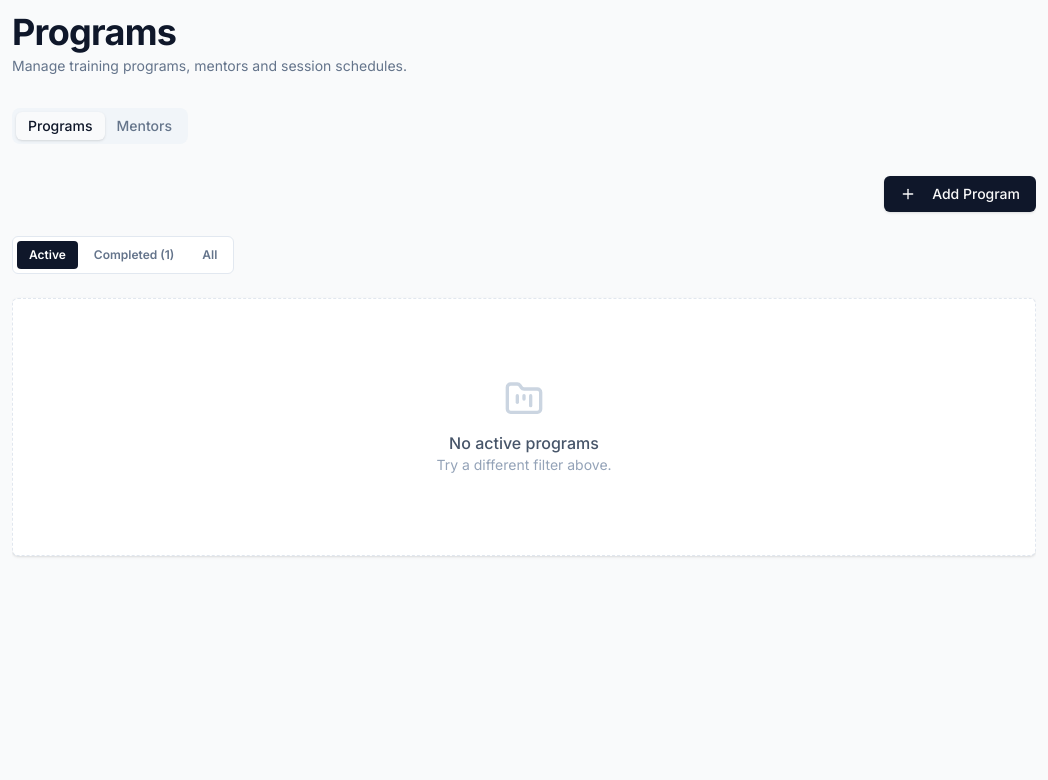
Test: Programs — Programs tab › status filter empty state
Expected: the button with test id "status-tab-active" is shown, [17, 241, 78, 269]
What coordinates should you click on to do the following:
click the button with test id "status-tab-completed"
I would click on:
 (134, 255)
Its box is [82, 241, 186, 269].
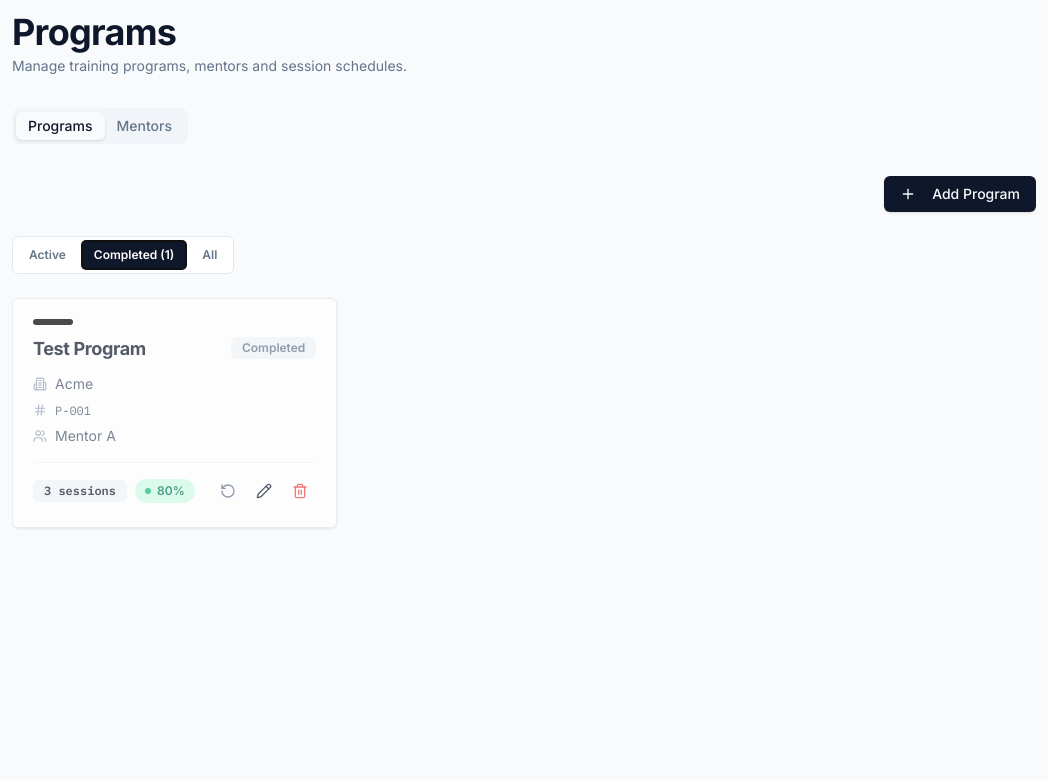
Expected: the heading "Test Program" is shown, [33, 337, 146, 362]
